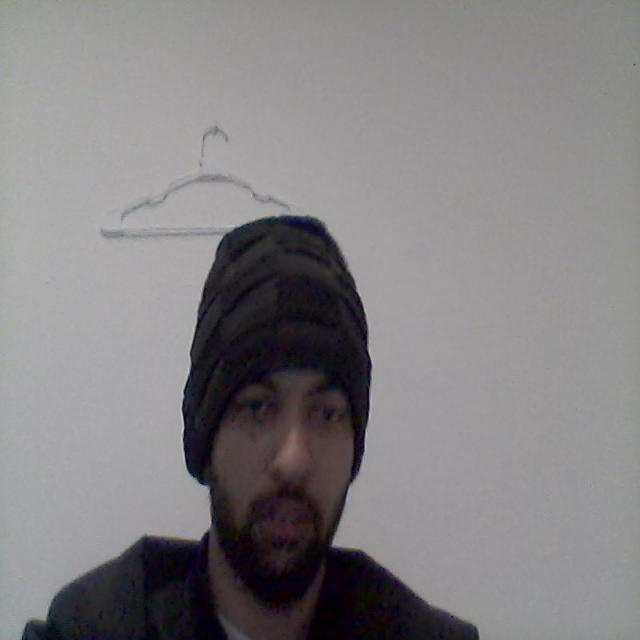cap: (160, 195, 414, 501)
